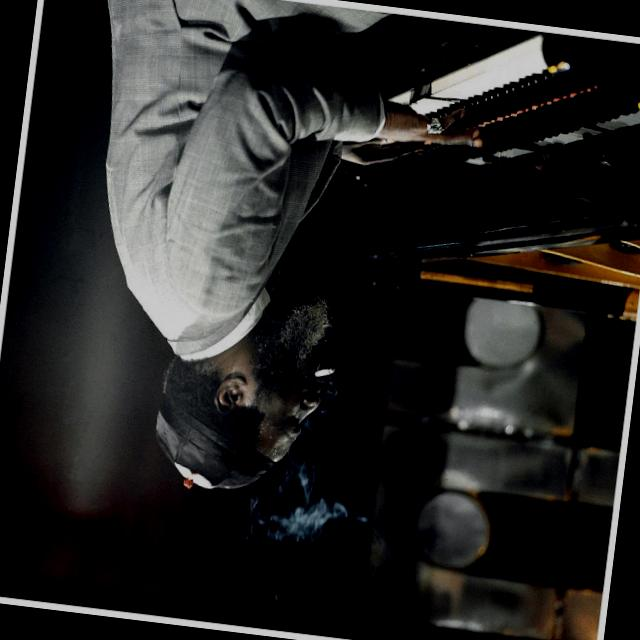smoke: (302, 356, 354, 394)
